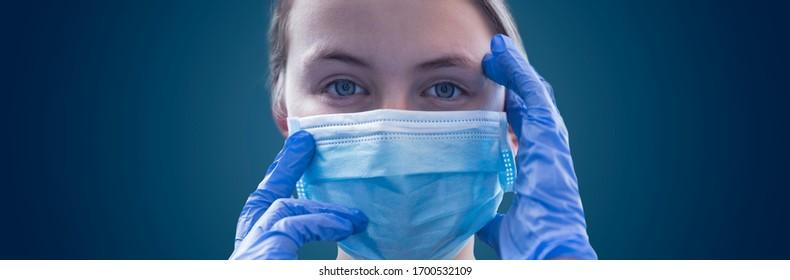gloves: (479, 33, 598, 260), (227, 129, 368, 261)
